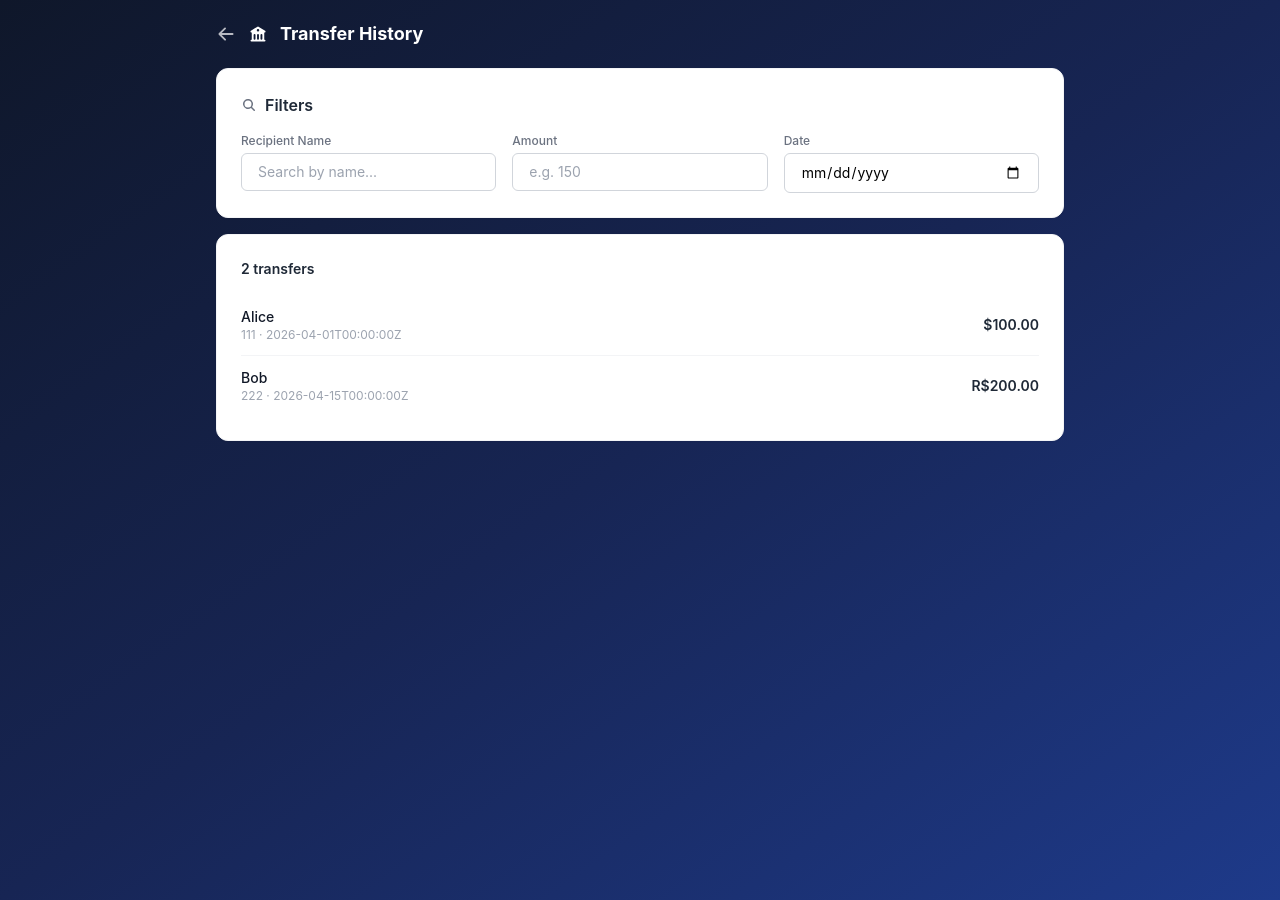
Scenario: HistoryTransferPage › filters by date
Expected: the text "Alice" is shown, top-left (241, 308), bottom-right (274, 325)
In the date field: (911, 173) top-left (784, 153), bottom-right (1039, 193), type "2026-04-01"
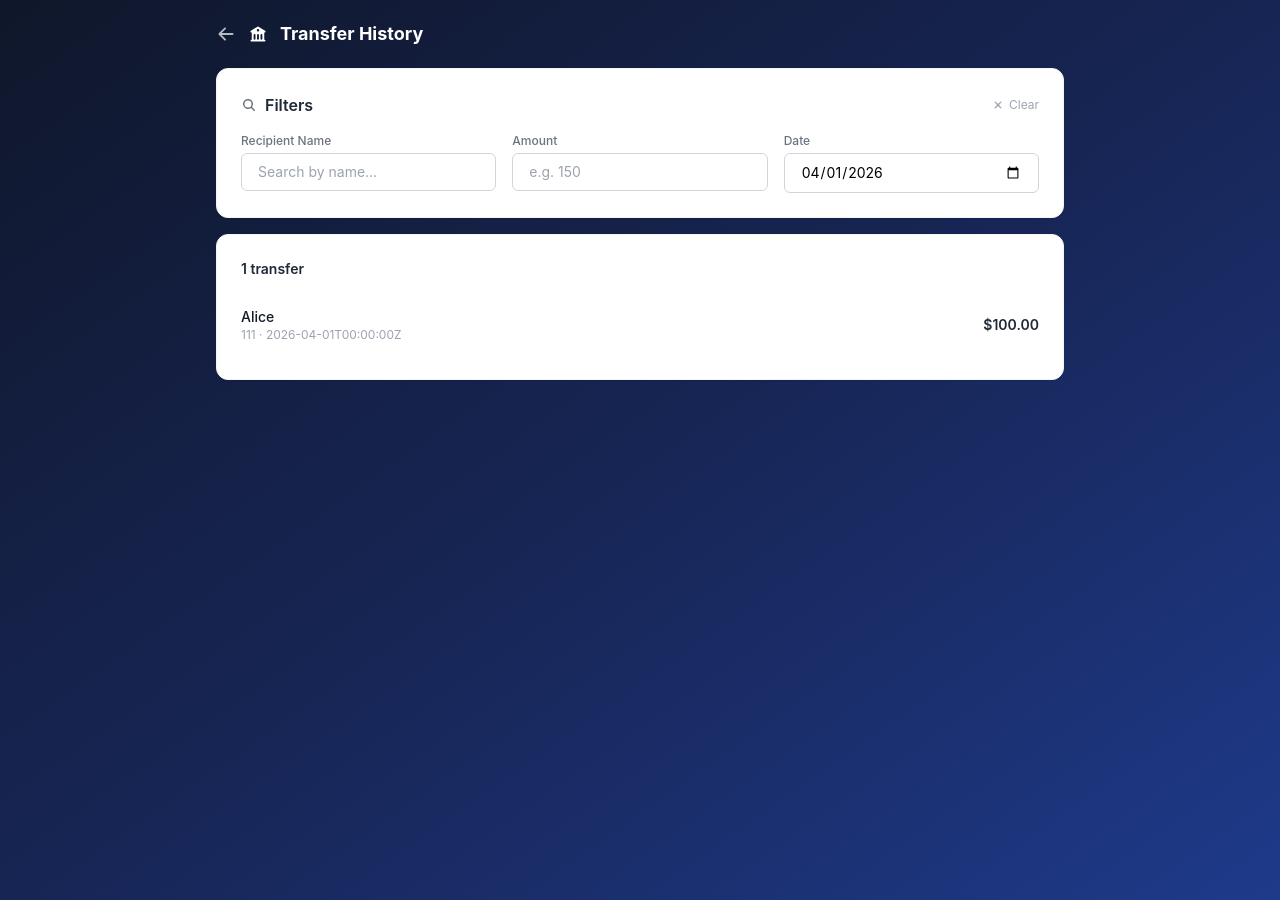
Expected: the text "Alice" is shown, top-left (241, 308), bottom-right (274, 325)
Now the text "Bob" is gone
